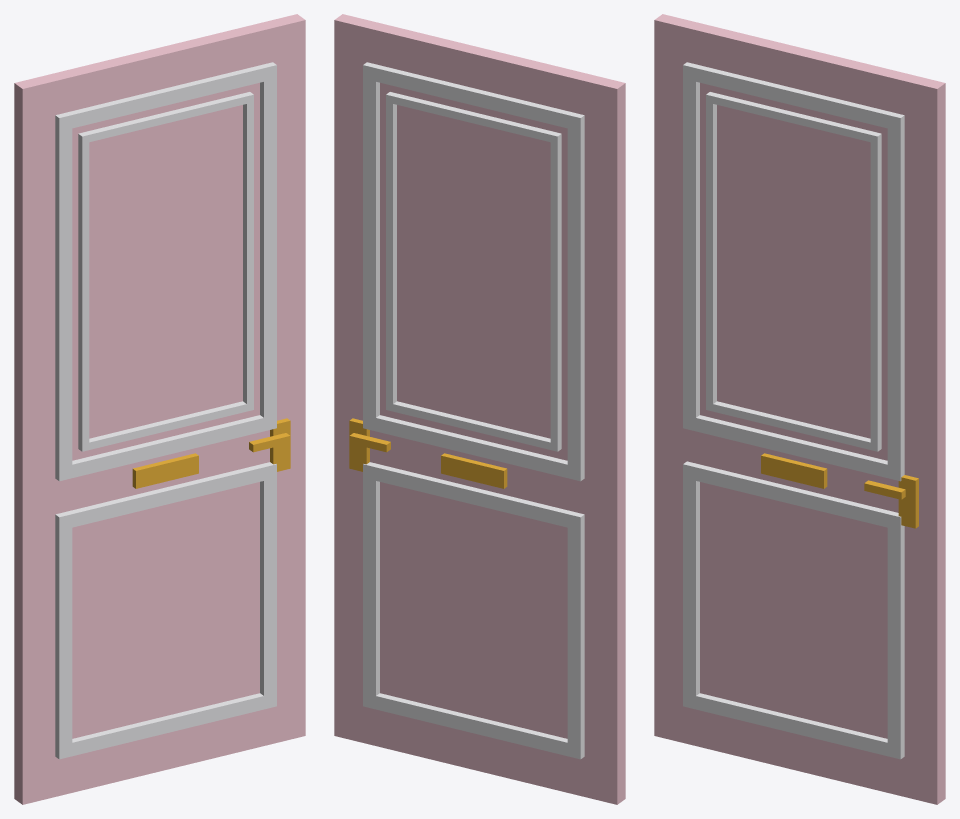
Rendered from SM_Door_girls_inner_100x240.fbx.
3 renders of one model, left to right at view 1: azimuth 30°, elevation 25°; view 2: azimuth 150°, elevation 25°; view 3: azimuth 330°, elevation 25°, orthographic.
Visible parts, largest first — view 1: SM_Door_girls_inner_100x240; view 2: SM_Door_girls_inner_100x240; view 3: SM_Door_girls_inner_100x240.
Part boxes in pixels (x1=…): SM_Door_girls_inner_100x240: x1=14, y1=14, x2=305, y2=804; SM_Door_girls_inner_100x240: x1=334, y1=14, x2=625, y2=804; SM_Door_girls_inner_100x240: x1=654, y1=14, x2=945, y2=804.
Size of the model in its own units: 0.988 by 2.39 by 0.175.
